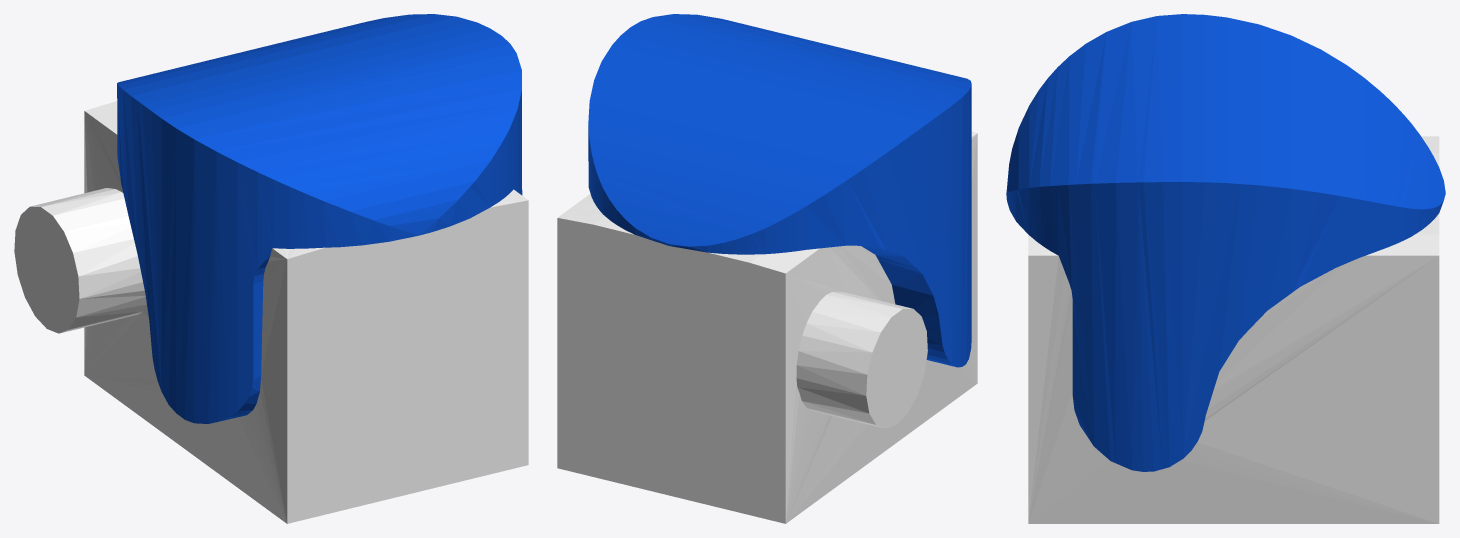
Rendered from L_SHOULDER_R_LINK_mesh.dae.
3 renders of one model, left to right at view 1: azimuth 30°, elevation 25°; view 2: azimuth 150°, elevation 25°; view 3: azimuth 270°, elevation 25°, orthographic. The views are drawn at different scales.
Visible parts, largest first — view 1: L_SHOULDER_R_LINK (×2); view 2: L_SHOULDER_R_LINK (×2); view 3: L_SHOULDER_R_LINK (×2).
Part boxes in pixels (x1=…): L_SHOULDER_R_LINK (×2): x1=14, y1=14, x2=528, y2=523; L_SHOULDER_R_LINK (×2): x1=557, y1=14, x2=977, y2=523; L_SHOULDER_R_LINK (×2): x1=1006, y1=14, x2=1445, y2=523.
Size of the model in its own units: 0.0975 by 0.0915 by 0.0994.
